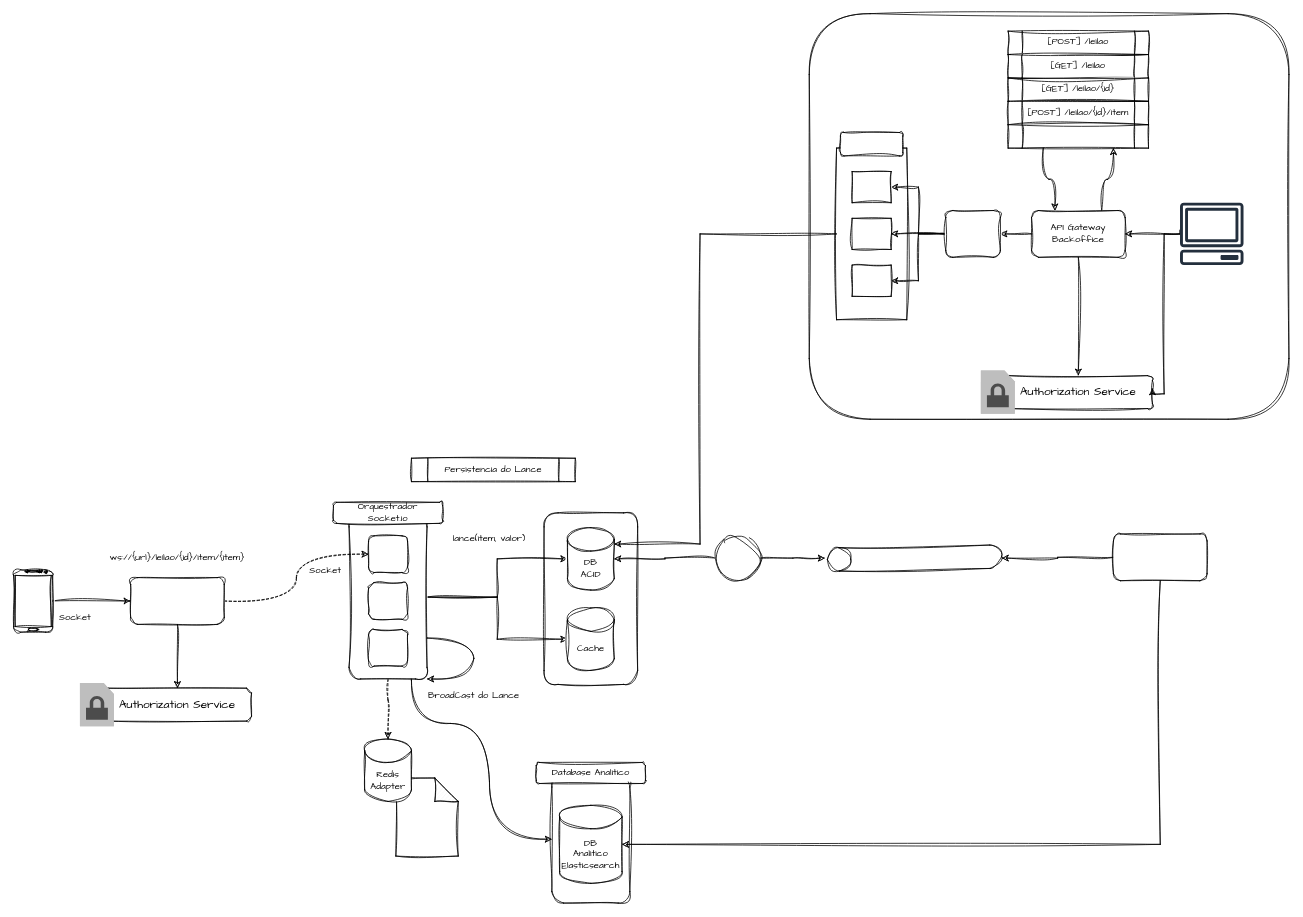
The diagram is 1303 pixels wide and 917 high, and some of its shapes have lost their labels. The shapes that lost their labels are listed below. From the top down, each one's centre as x and y in pixels, then its label:
pixel 871 144: Backoffice
pixel 1078 136: [PUT] /leilao/{id}/item
pixel 972 233: Load Balancer
pixel 738 558: CDC
pixel 1160 557: Consolidação do Leilão
pixel 177 600: API Gateway Kong Gateway
pixel 426 816: Reconexão Stateless
